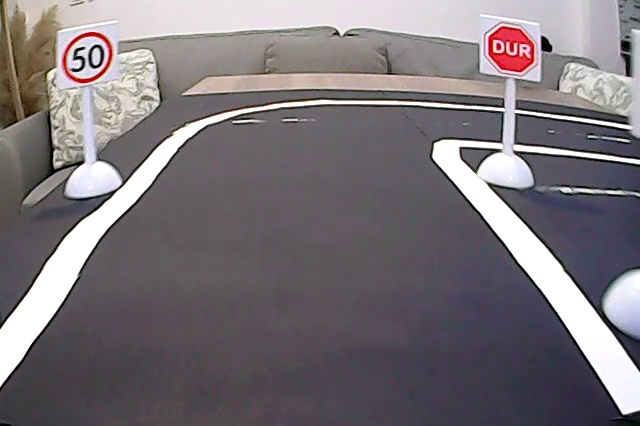speed limit 50: (58, 30, 115, 87)
stop sign: (483, 18, 544, 81)
